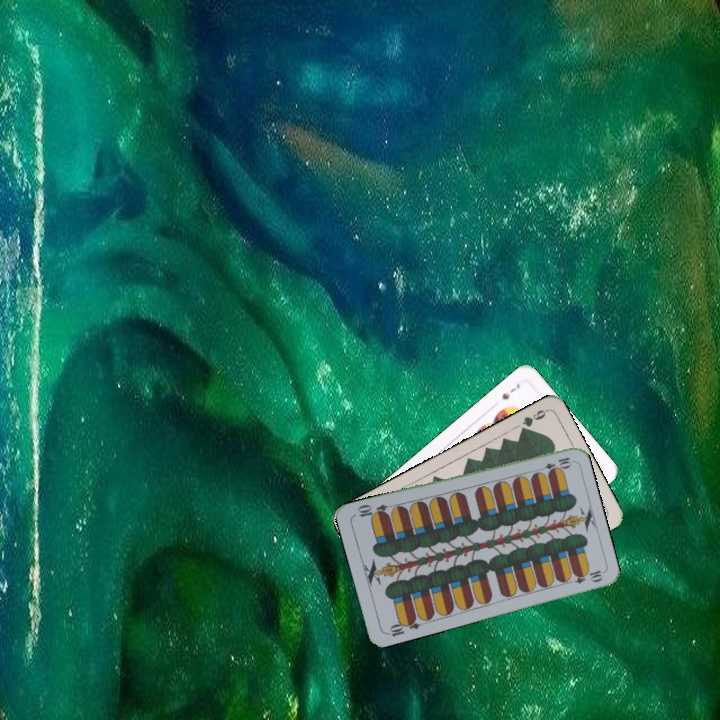E10: (383, 613, 422, 639), (534, 453, 574, 475)
G9: (516, 405, 550, 436)
S7: (498, 380, 523, 402)
